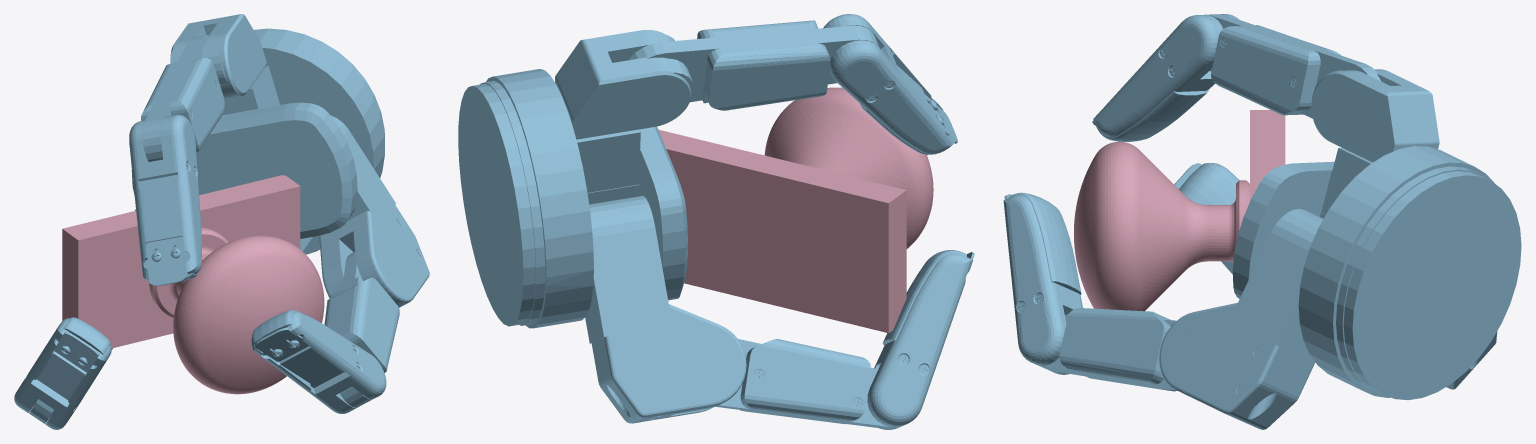
3 views of the same model, side by side, from view 1: azimuth 30°, elevation 25°; view 2: azimuth 150°, elevation 25°; view 3: azimuth 270°, elevation 25° (orthographic). The views are drawn at different scales.
Parts seen in each view (by area): view 1: world; view 2: world; view 3: world.
Boxes of the visible parts, x1=… form: world: x1=14, y1=14, x2=429, y2=429; world: x1=458, y1=14, x2=974, y2=429; world: x1=1003, y1=14, x2=1521, y2=429.
Size of the model in its own units: 0.1765 by 0.1409 by 0.1838.
